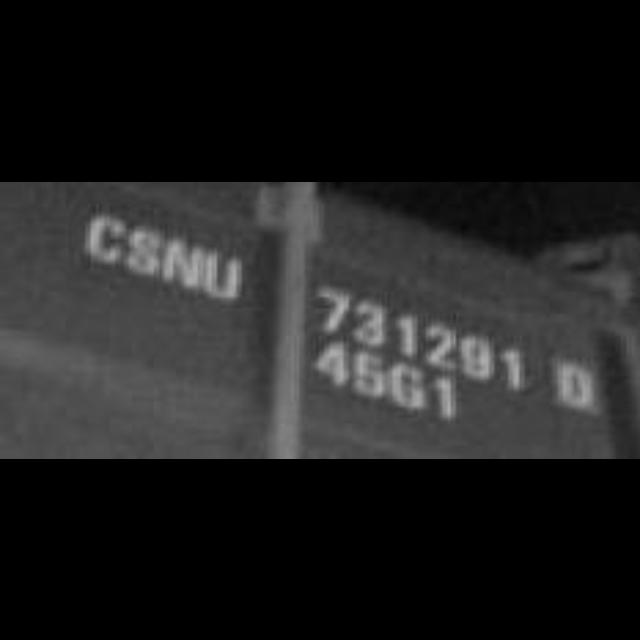0: (553, 356, 601, 414)
1: (496, 340, 530, 398), (393, 308, 422, 362), (428, 372, 458, 421)
2: (423, 314, 461, 372)
3: (350, 290, 392, 350)
4: (312, 337, 350, 388)
5: (349, 346, 385, 402)
7: (312, 279, 348, 339)
8: (460, 318, 496, 386)
c: (83, 208, 125, 268)
g: (388, 361, 426, 415)
n: (162, 225, 204, 299)
s: (127, 217, 161, 283)
u: (204, 240, 240, 308)
